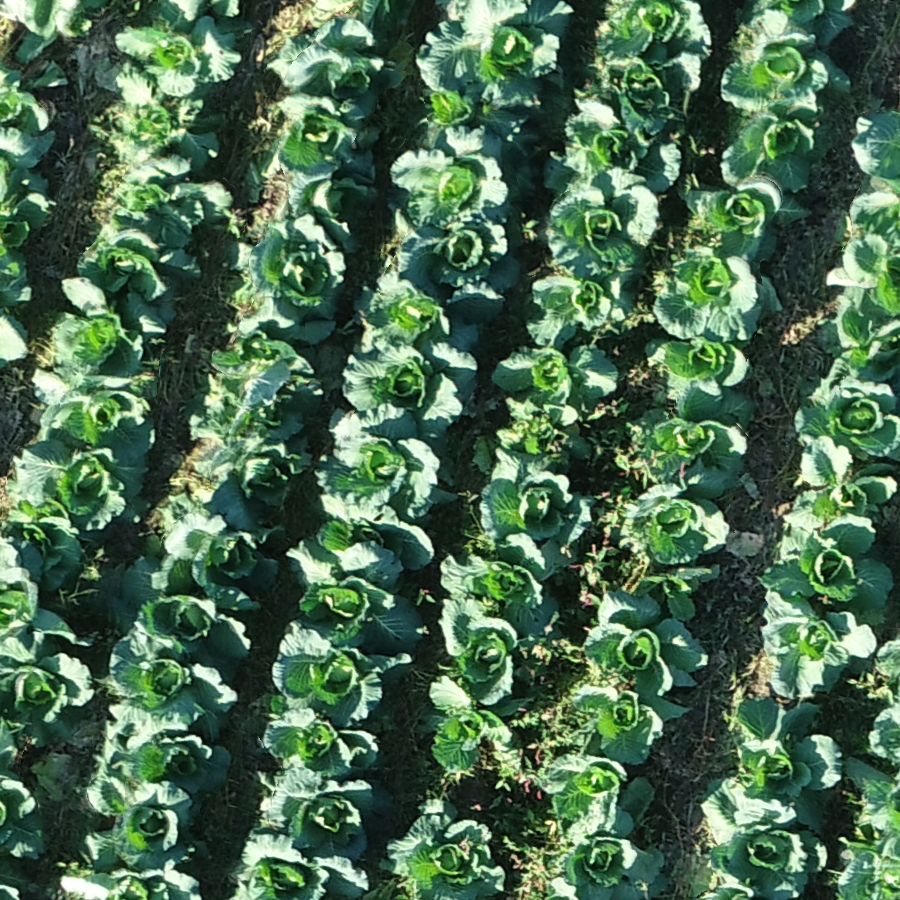Cabbage: (417, 1, 575, 115), (189, 390, 313, 533), (106, 556, 250, 679), (288, 540, 423, 656), (86, 59, 224, 170), (342, 342, 476, 456), (480, 450, 594, 580), (314, 403, 440, 520), (704, 779, 826, 899), (760, 515, 894, 624), (386, 125, 517, 236), (6, 441, 148, 543), (271, 628, 414, 727), (265, 18, 403, 120), (238, 214, 347, 343), (738, 697, 843, 829), (109, 632, 239, 734), (585, 590, 707, 698), (546, 167, 660, 282), (257, 768, 390, 864), (557, 98, 680, 201), (156, 513, 286, 610), (352, 272, 508, 352), (653, 248, 783, 343), (382, 799, 504, 900), (551, 793, 667, 899), (32, 367, 156, 466), (761, 593, 876, 698), (631, 385, 751, 485), (76, 227, 201, 323), (53, 279, 167, 381), (683, 174, 813, 263), (85, 765, 193, 872), (441, 533, 557, 632), (611, 469, 729, 565), (783, 435, 900, 531), (417, 676, 535, 771), (110, 154, 231, 246), (0, 631, 95, 748), (0, 536, 93, 646), (722, 104, 835, 194), (400, 217, 524, 298), (115, 17, 243, 94), (722, 34, 849, 110), (228, 833, 369, 900), (571, 686, 690, 765), (313, 495, 438, 569), (277, 93, 381, 178), (797, 377, 900, 462), (440, 596, 520, 704), (600, 51, 701, 135), (525, 274, 635, 349), (228, 358, 323, 443), (205, 331, 315, 404), (492, 342, 617, 405), (538, 755, 652, 824), (0, 501, 86, 592), (105, 733, 233, 792), (264, 708, 376, 775), (288, 169, 377, 253), (592, 0, 710, 63), (815, 297, 900, 383), (495, 398, 594, 470), (419, 89, 533, 150), (0, 717, 48, 859), (825, 235, 900, 321), (646, 337, 746, 399), (0, 167, 52, 276), (57, 861, 202, 900), (741, 0, 857, 48), (0, 62, 67, 136), (639, 564, 718, 621), (836, 846, 900, 900), (0, 127, 55, 180)
